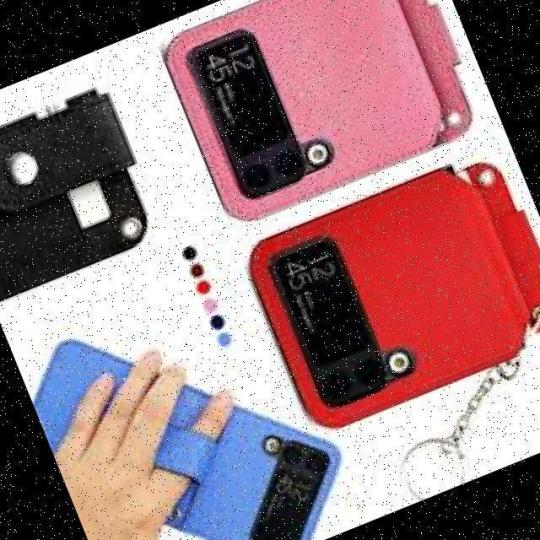phone: (234, 172, 539, 427), (164, 1, 479, 222), (31, 338, 344, 540)
